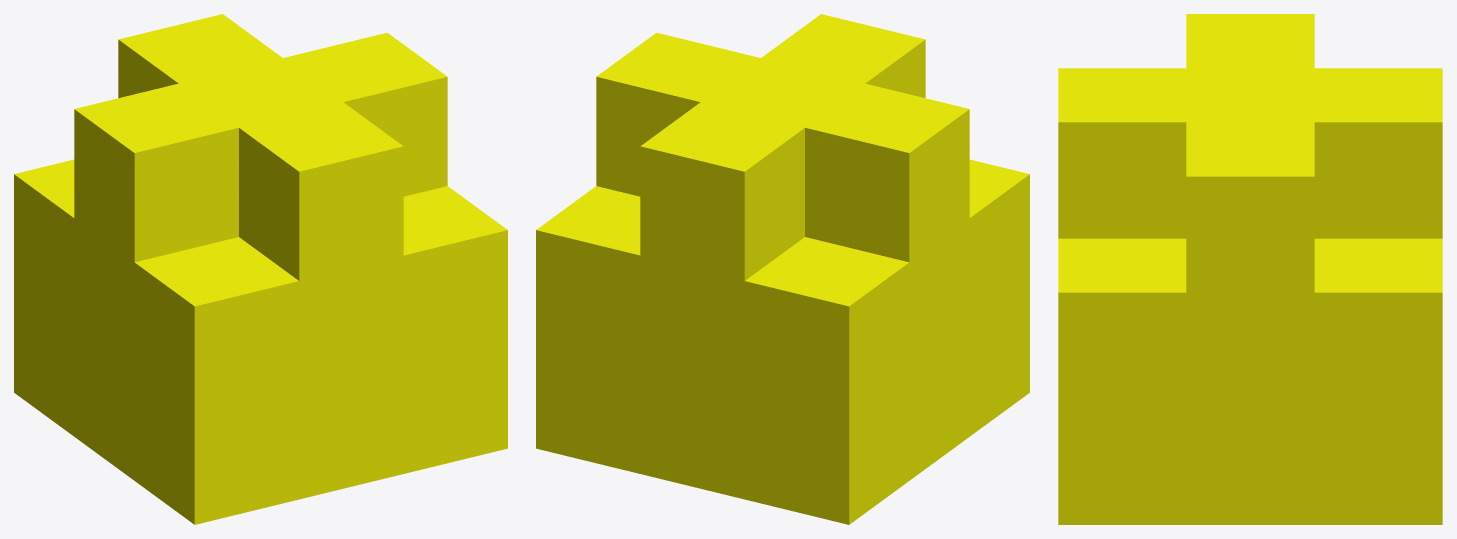
The model's file is voxel-village-bread-bun.glb.
3 views of the same model, side by side, from view 1: azimuth 30°, elevation 25°; view 2: azimuth 150°, elevation 25°; view 3: azimuth 270°, elevation 25° (orthographic). The views are drawn at different scales.
Visible parts, largest first — view 1: VS_Villagers_BreadBun; view 2: VS_Villagers_BreadBun; view 3: VS_Villagers_BreadBun.
Part boxes in pixels (<box>): VS_Villagers_BreadBun: <box>14,14,507,524</box>; VS_Villagers_BreadBun: <box>536,14,1029,524</box>; VS_Villagers_BreadBun: <box>1058,14,1442,524</box>.
Size of the model in its own units: 0.3 by 0.3 by 0.3.
